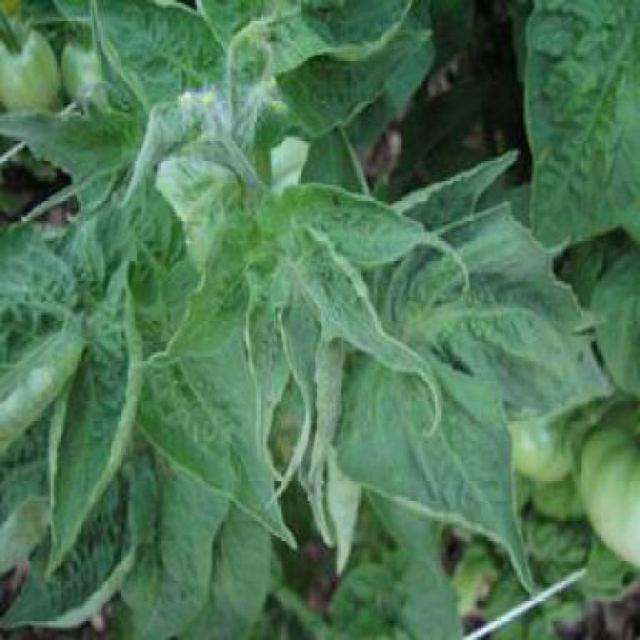Tomato yellow virus leaf: (333, 317, 544, 585), (129, 257, 302, 543), (290, 217, 442, 425), (270, 177, 467, 283)
